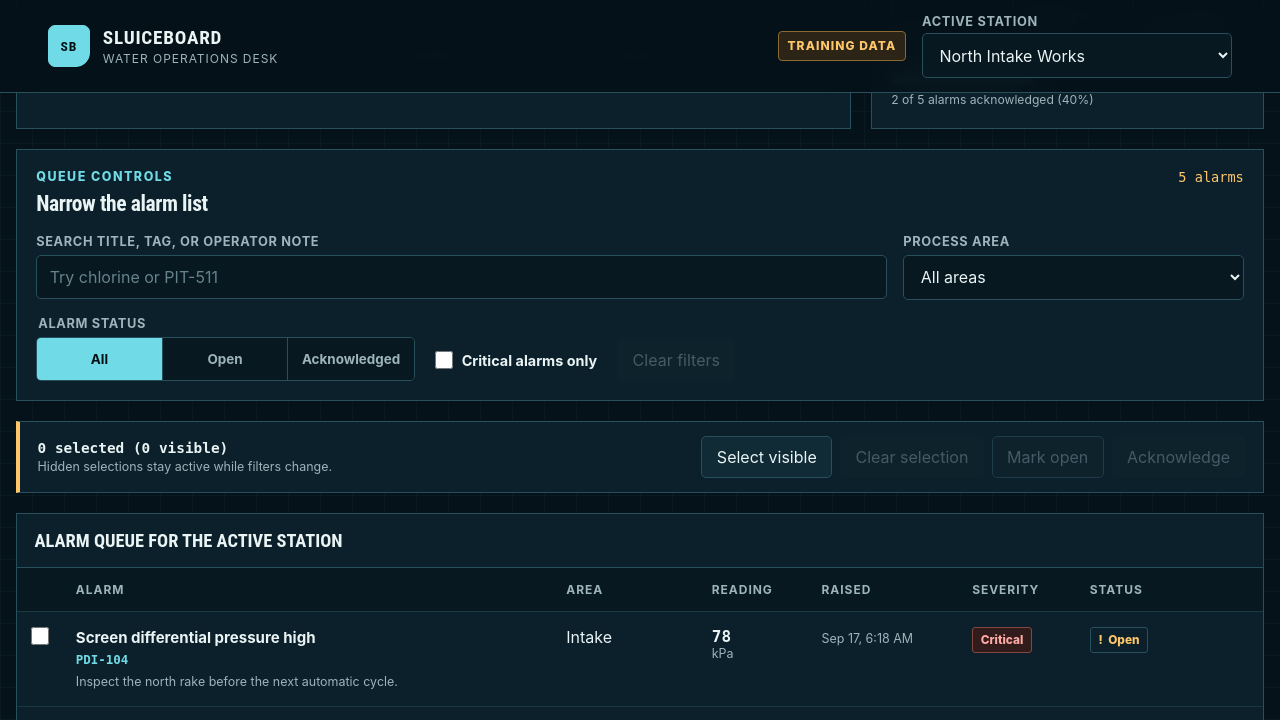
it: Sluiceboard › filters to critical alarms with status text intact
(page scrolled)
Click the checkbox labelled "Critical alarms only" at (444, 360), box [435,351,453,369]
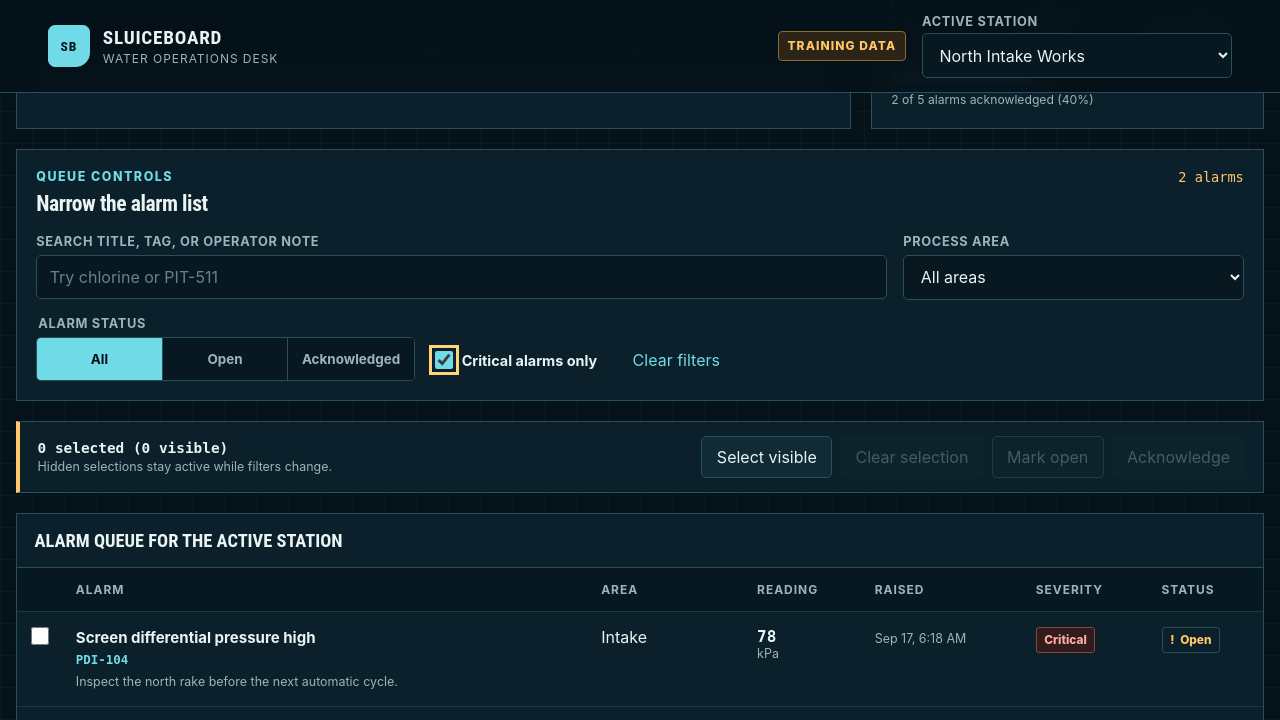
expect the row "Screen differential pressure high" is shown: met, box [17,612,1263,706]
expect the text "2 alarms" is shown: met, box [1178,169,1244,185]
